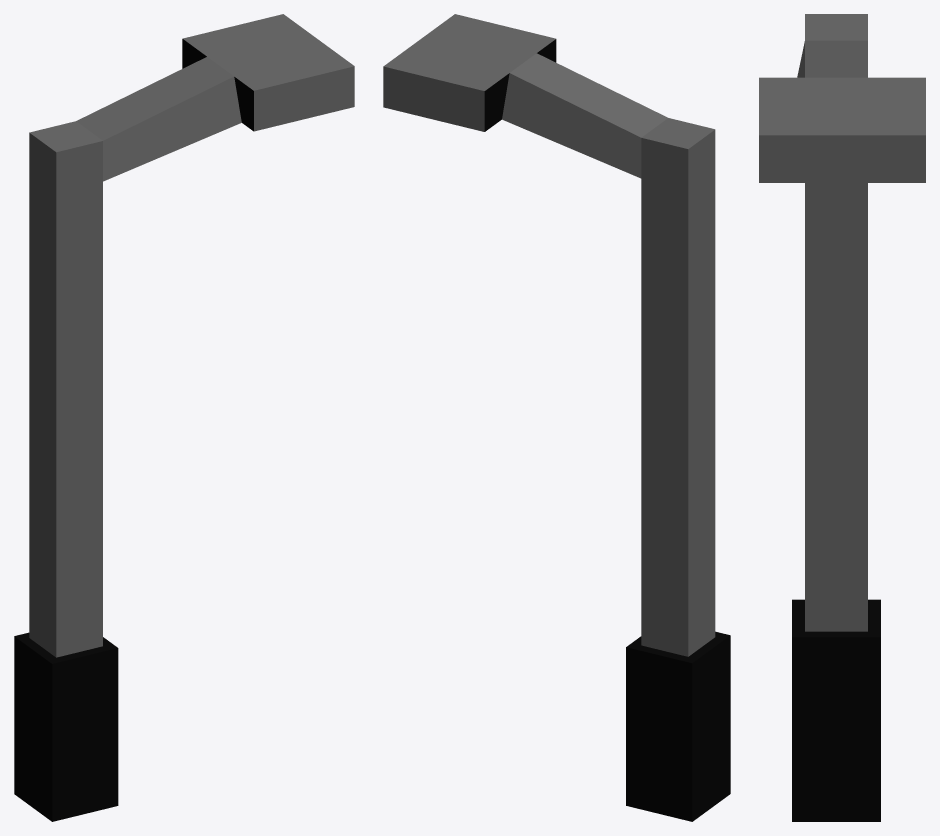
File: LightPost.fbx
The picture shows the model from 3 angles, left to right: view 1: azimuth 30°, elevation 25°; view 2: azimuth 150°, elevation 25°; view 3: azimuth 270°, elevation 25°; orthographic projection. The views are drawn at different scales.
Parts seen in each view (by area): view 1: LightPost; view 2: LightPost; view 3: LightPost.
Boxes of the visible parts, x1=… form: LightPost: x1=14, y1=14, x2=354, y2=821; LightPost: x1=383, y1=14, x2=730, y2=821; LightPost: x1=759, y1=14, x2=925, y2=821.
Bounding box in the file's own units: 3.49 × 8.04 × 1.49.
1 material, 1 textured.
